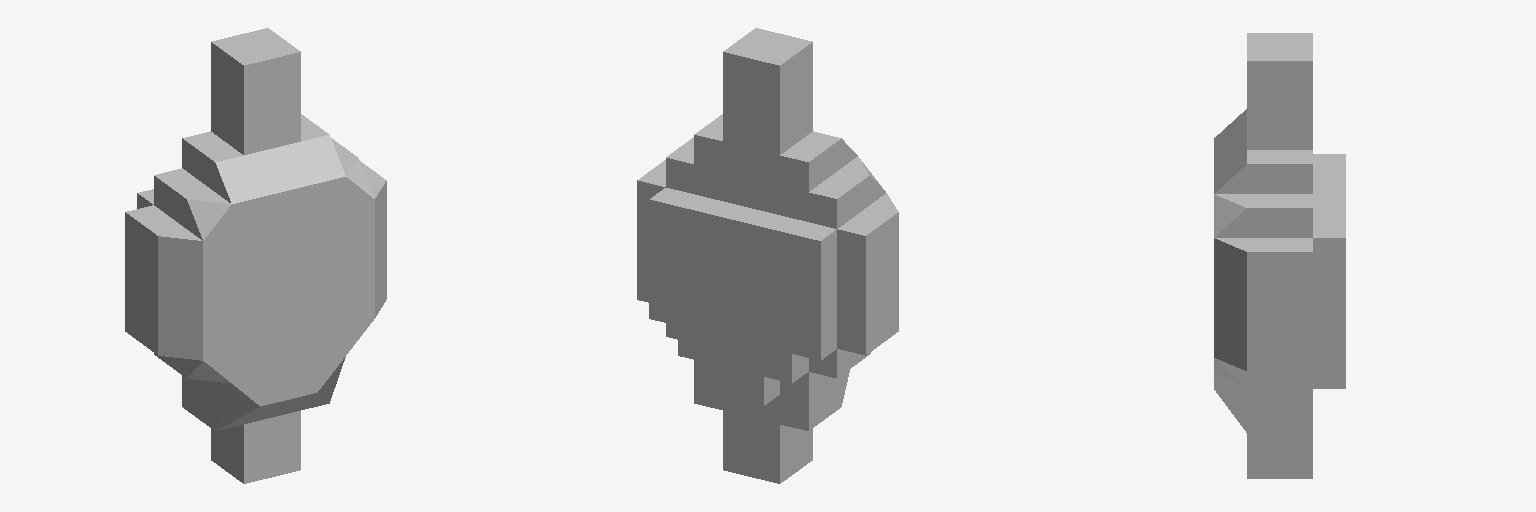
Rendered from st_signpost_corr.obj.
3 views of the same model, side by side, from view 1: azimuth 30°, elevation 25°; view 2: azimuth 150°, elevation 25°; view 3: azimuth 270°, elevation 25° (orthographic).
Parts seen in each view (by area): view 1: signstone; view 2: signstone; view 3: signstone.
Boxes of the visible parts, x1=… form: signstone: x1=125, y1=28, x2=386, y2=483; signstone: x1=637, y1=28, x2=898, y2=483; signstone: x1=1214, y1=33, x2=1345, y2=478.
Bounding box in the file's own units: 1.12 × 1.96 × 0.5591.